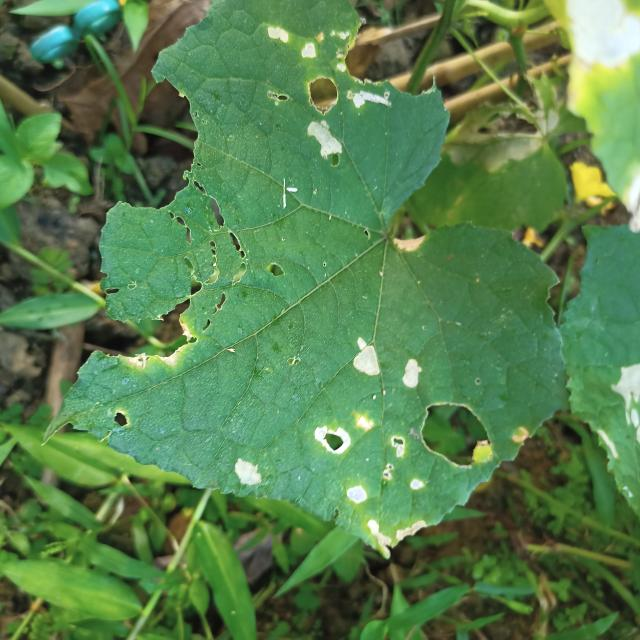disease_cucumber: (229, 410, 437, 558), (250, 26, 393, 163), (343, 333, 436, 393)
